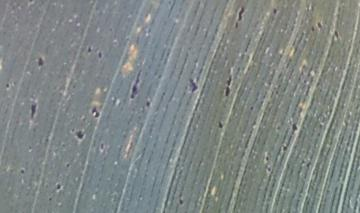tarspot: (126, 67, 143, 100), (222, 72, 236, 98), (185, 73, 201, 95), (25, 98, 41, 119), (234, 2, 246, 22), (33, 54, 47, 68), (89, 105, 101, 121), (73, 129, 89, 141), (288, 118, 300, 134), (331, 27, 343, 42), (214, 119, 226, 132), (176, 195, 187, 209), (315, 16, 324, 33), (53, 180, 64, 193), (95, 48, 105, 62), (98, 139, 107, 153), (63, 160, 74, 171), (143, 98, 152, 110), (308, 25, 316, 38), (247, 102, 257, 112), (3, 80, 12, 91), (17, 166, 28, 175), (263, 165, 274, 174), (271, 5, 279, 17), (84, 43, 93, 53), (280, 142, 289, 152), (233, 21, 242, 30), (263, 152, 270, 162), (46, 195, 55, 202)
